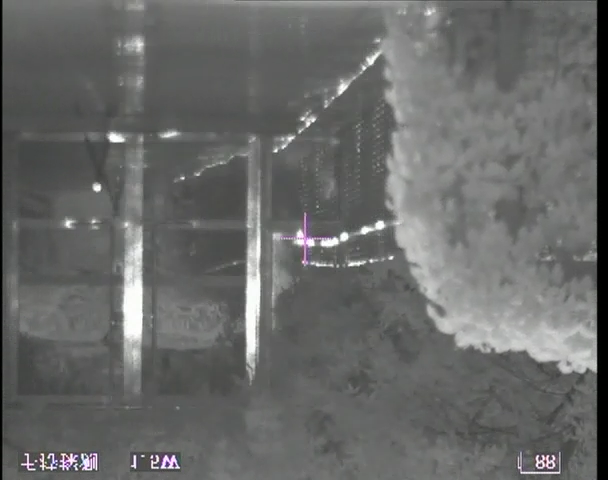my: (92, 181, 102, 193)
